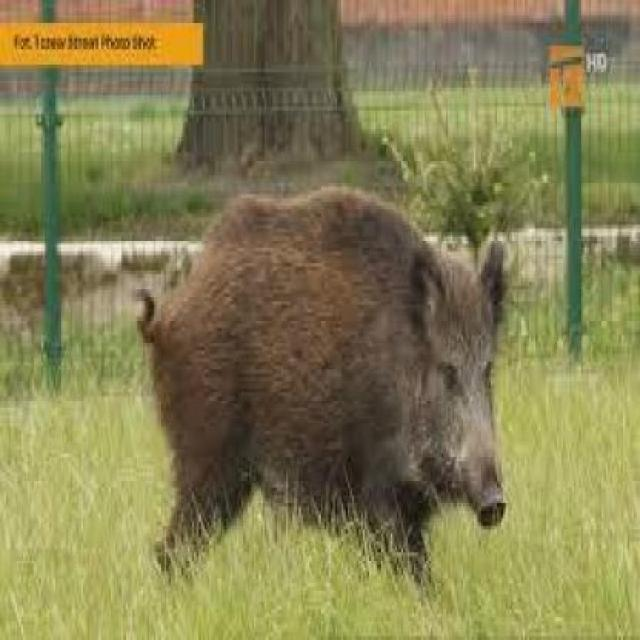wildboar: (129, 189, 514, 597)
